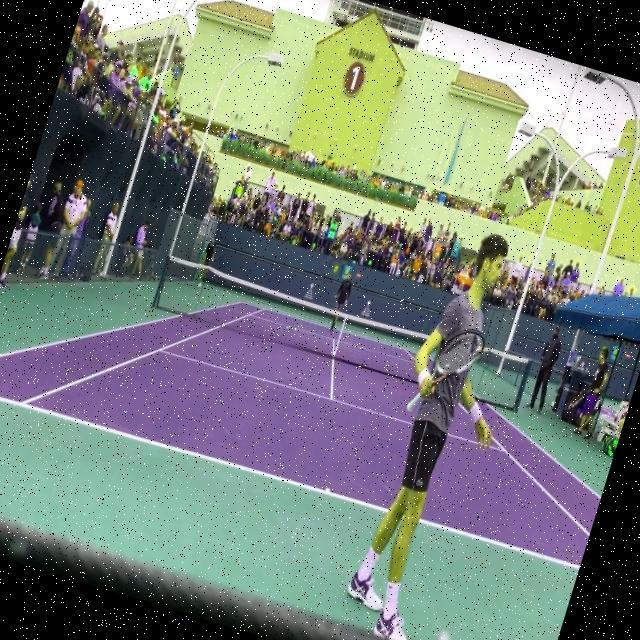court: (0, 228, 625, 578)
net: (150, 246, 536, 418)
player: (332, 221, 551, 640)
